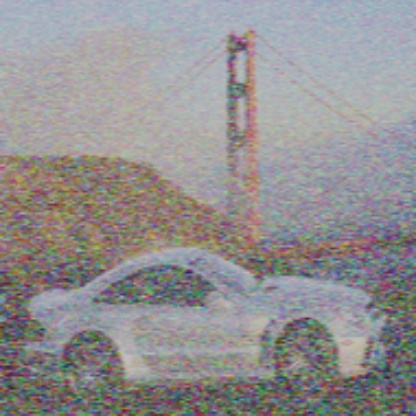Vehicle: (24, 247, 388, 411)
